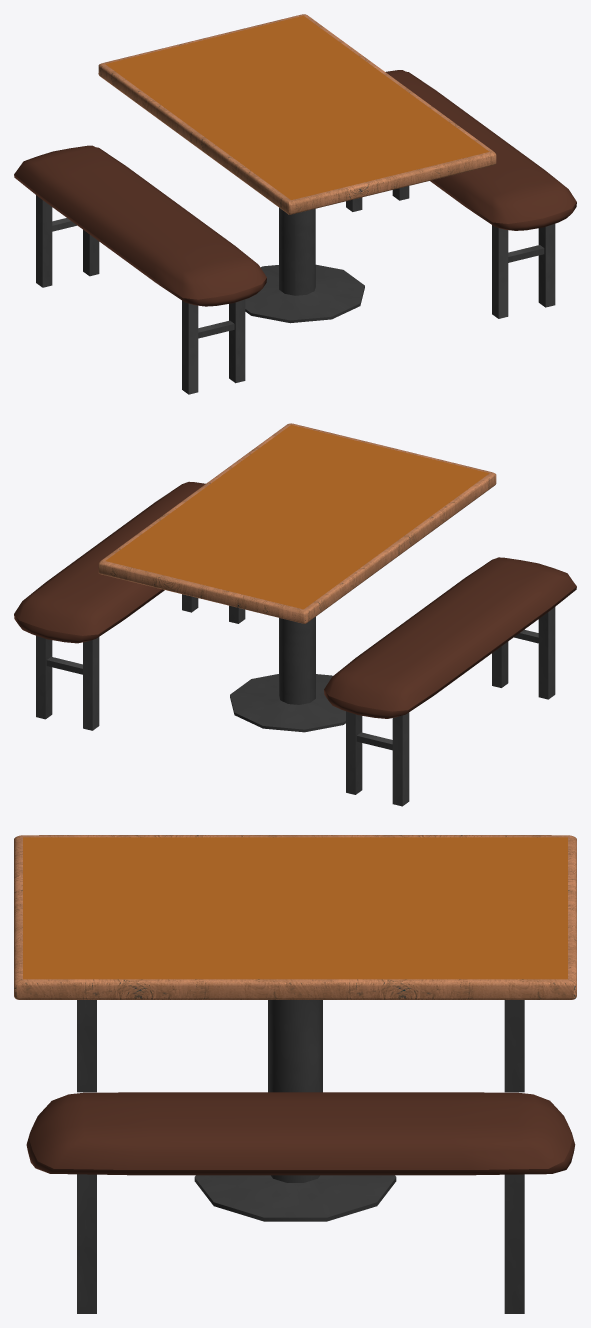
File: Orange Table Square.fbx
The picture shows the model from 3 angles, top to bottom: view 1: azimuth 30°, elevation 25°; view 2: azimuth 150°, elevation 25°; view 3: azimuth 270°, elevation 25°; orthographic projection. The views are drawn at different scales.
Parts seen in each view (by area): view 1: Baked.001, Baked.003, Baked.004; view 2: Baked.001, Baked.003, Baked.004; view 3: Baked.001, Baked.004, Baked.003.
Boxes of the visible parts, x1,y1,x2,y2 form: Baked.001: (98, 14, 496, 323); Baked.003: (14, 145, 266, 394); Baked.004: (346, 70, 576, 318); Baked.001: (98, 423, 496, 732); Baked.003: (324, 557, 576, 806); Baked.004: (14, 481, 245, 730); Baked.001: (14, 835, 576, 1221); Baked.004: (26, 1092, 575, 1313); Baked.003: (77, 1000, 524, 1092).
Size of the model in its own units: 108 by 48.72 by 90.54.
